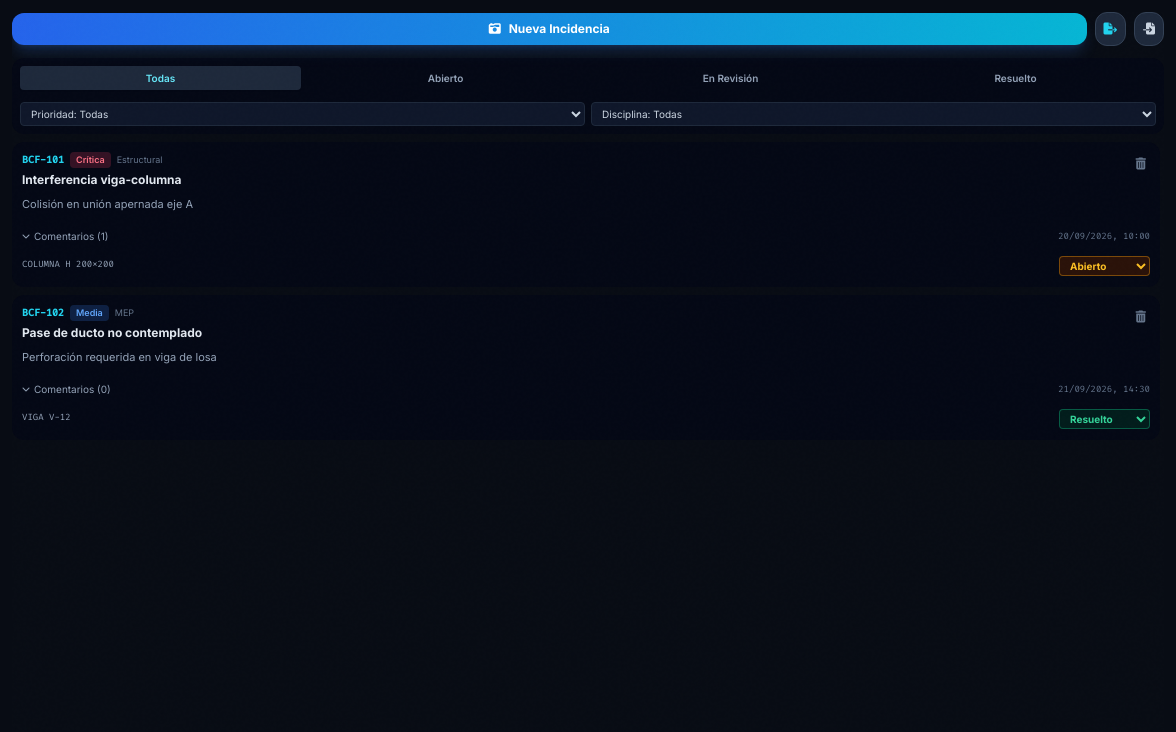
Test: IfcBcfManager - Gestión de Incidencias BCF (Fase 5) › permite agregar comentarios a una incidencia existente
This screenshot has width=1176, height=732.
// Abrir sección de comentarios
Click the button "Comentarios (1)" at (65, 236), box [22,228,108,244]
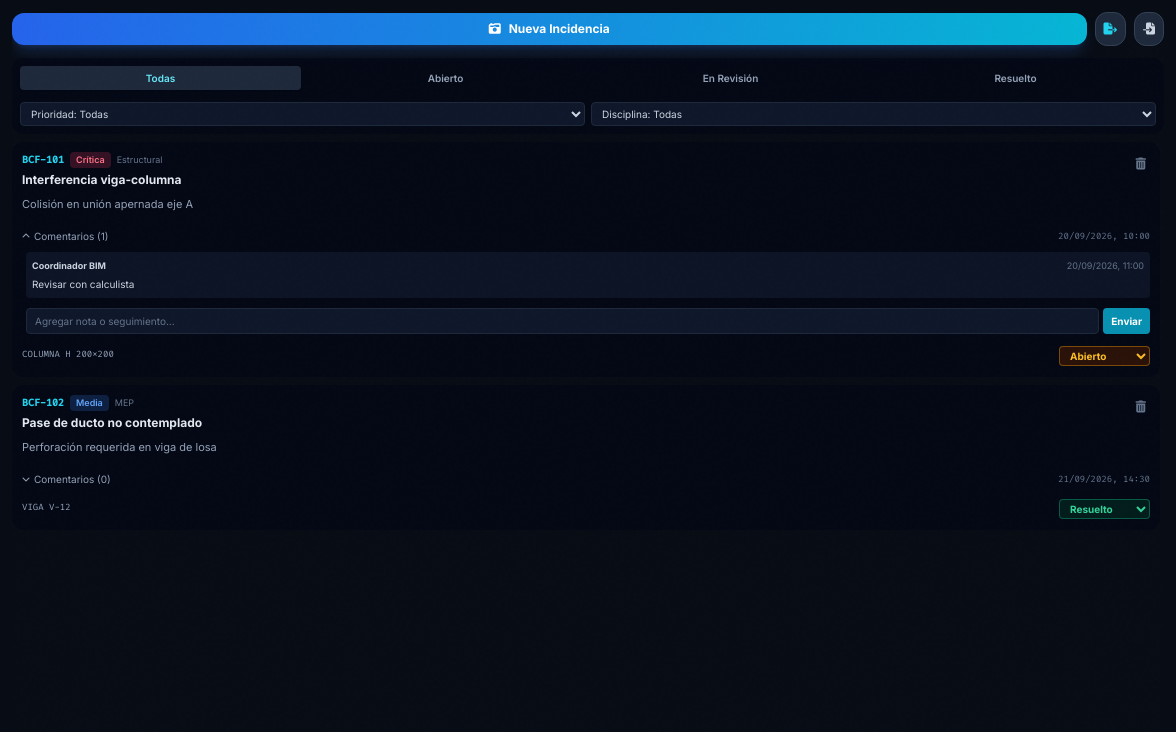
Result: the text "Revisar con calculista" is shown at [32,278,134,290]
// Escribir nuevo comentario y enviar
Type "Aprobado por ingeniería estructural" into the field with placeholder "Agregar nota o seguimiento..." at (563, 321), box [26,308,1099,334]
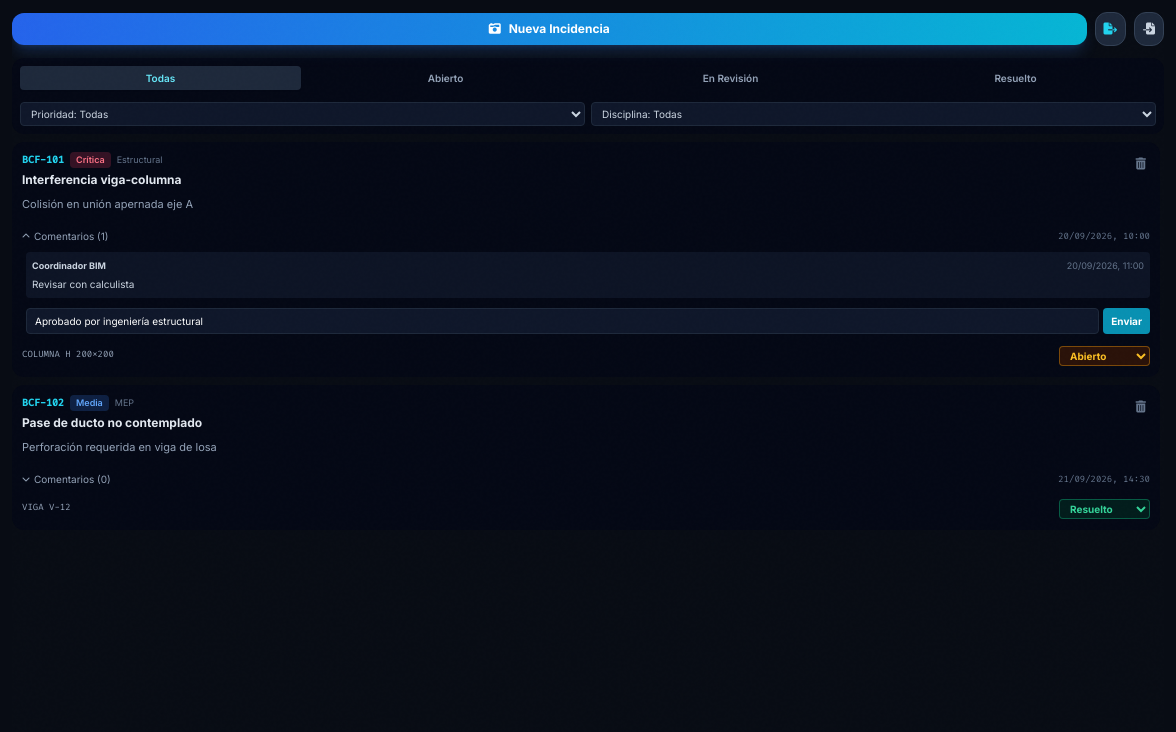
Click the button "Enviar" at (1127, 321), box [1103,308,1150,334]
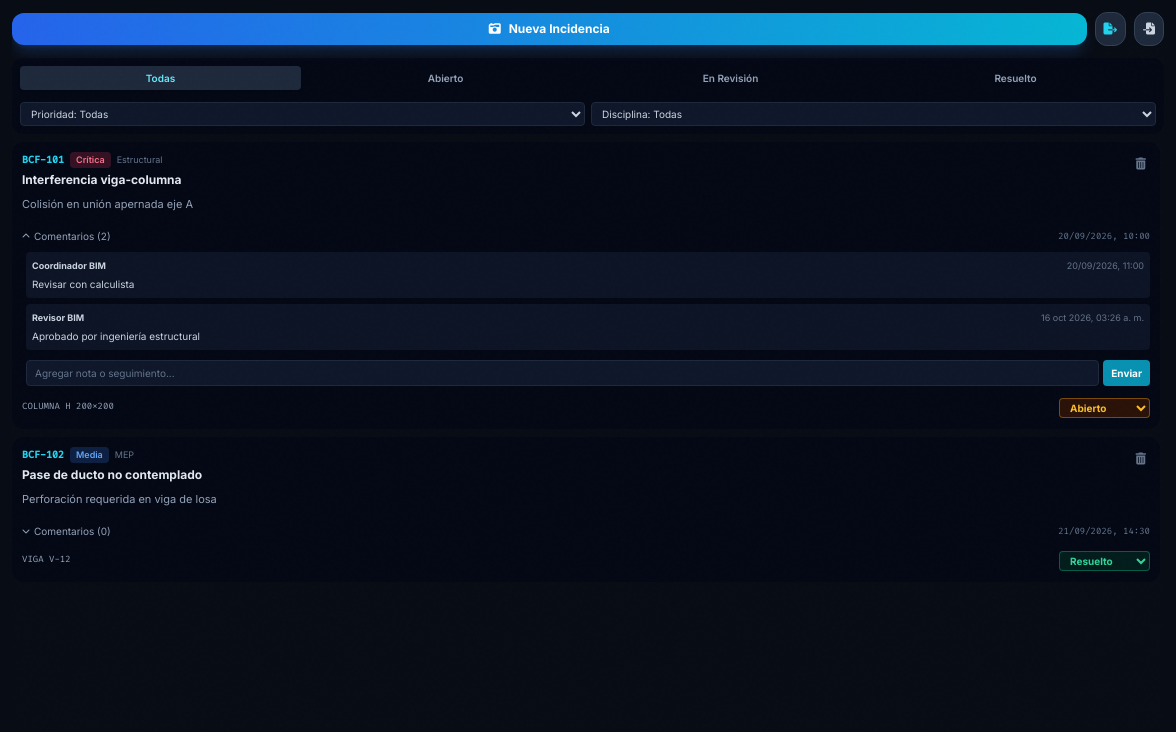
Result: the text "Aprobado por ingeniería estructural" is shown at [32,330,200,342]
